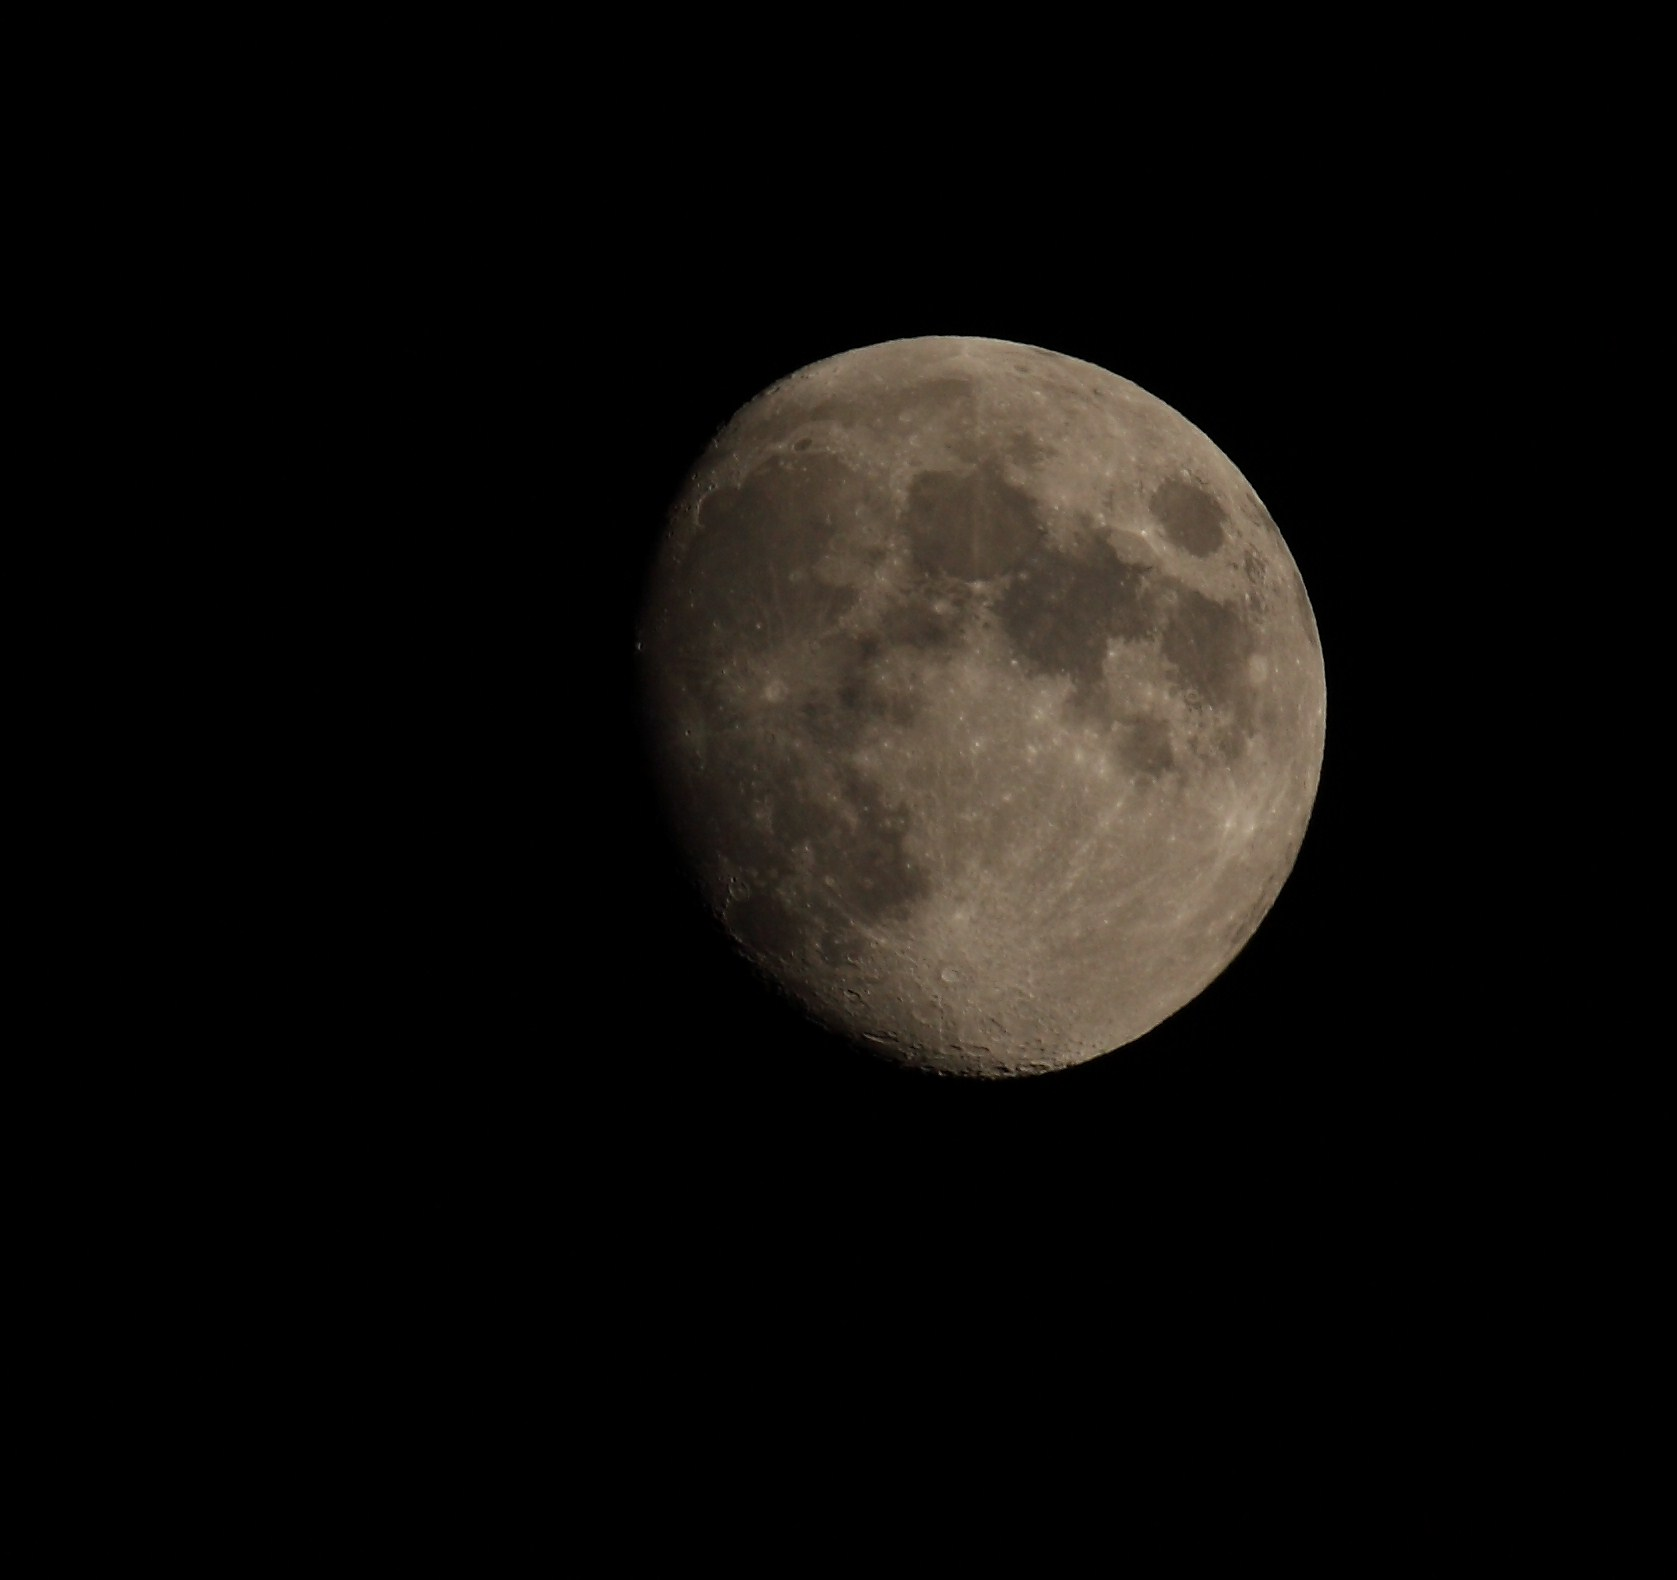crater: (878, 448, 1067, 595), (885, 904, 1032, 1019), (1136, 460, 1237, 575), (749, 655, 808, 722), (775, 414, 830, 477), (995, 349, 1050, 391), (1240, 640, 1276, 693), (1012, 1051, 1061, 1077), (723, 869, 756, 904), (974, 613, 1006, 640), (951, 704, 977, 731), (1101, 639, 1121, 670), (1003, 646, 1023, 676), (1289, 647, 1310, 674)
